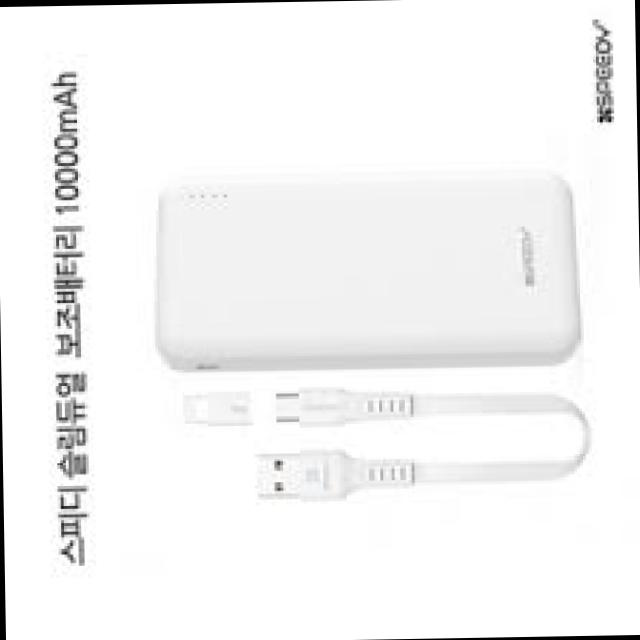power_bank: (146, 172, 580, 378)
